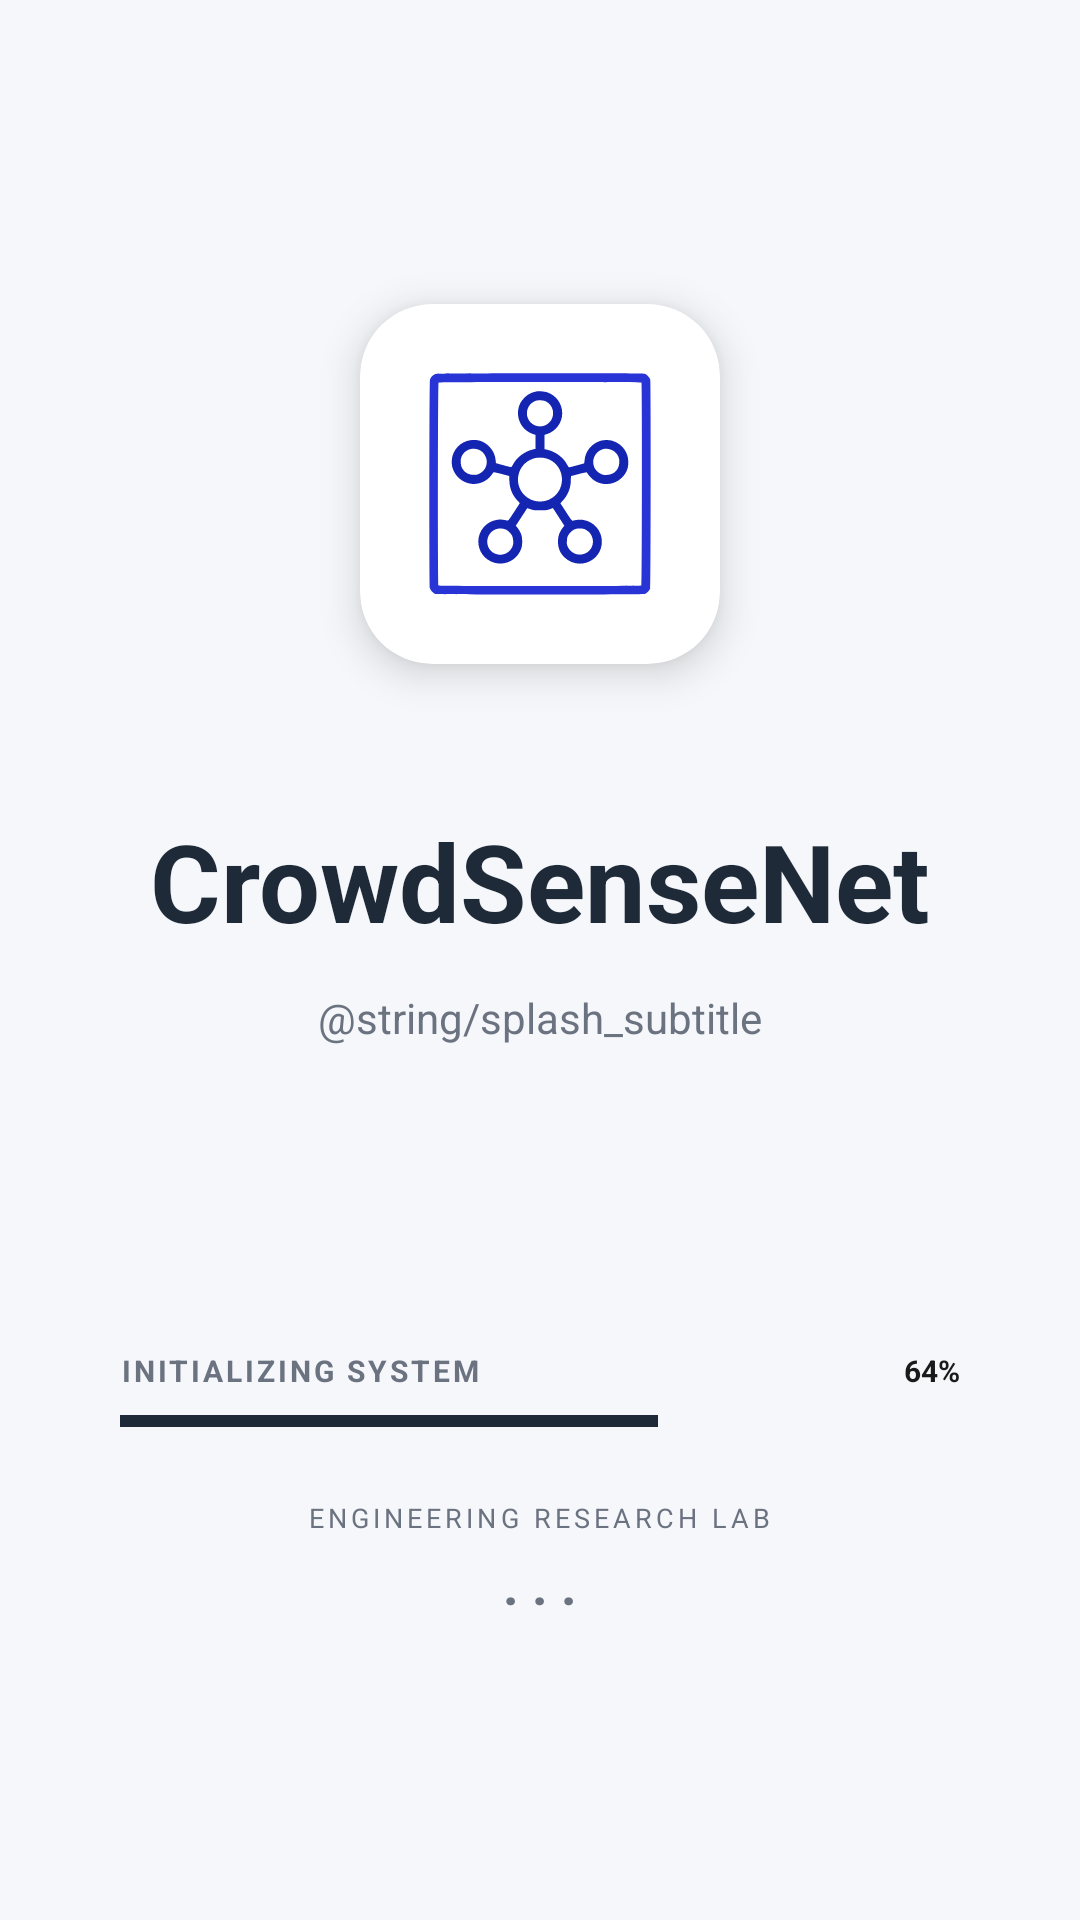

Screen size 1080x1920. Icon name, then its center in pixels as (x,y):
hub: (540,484)
